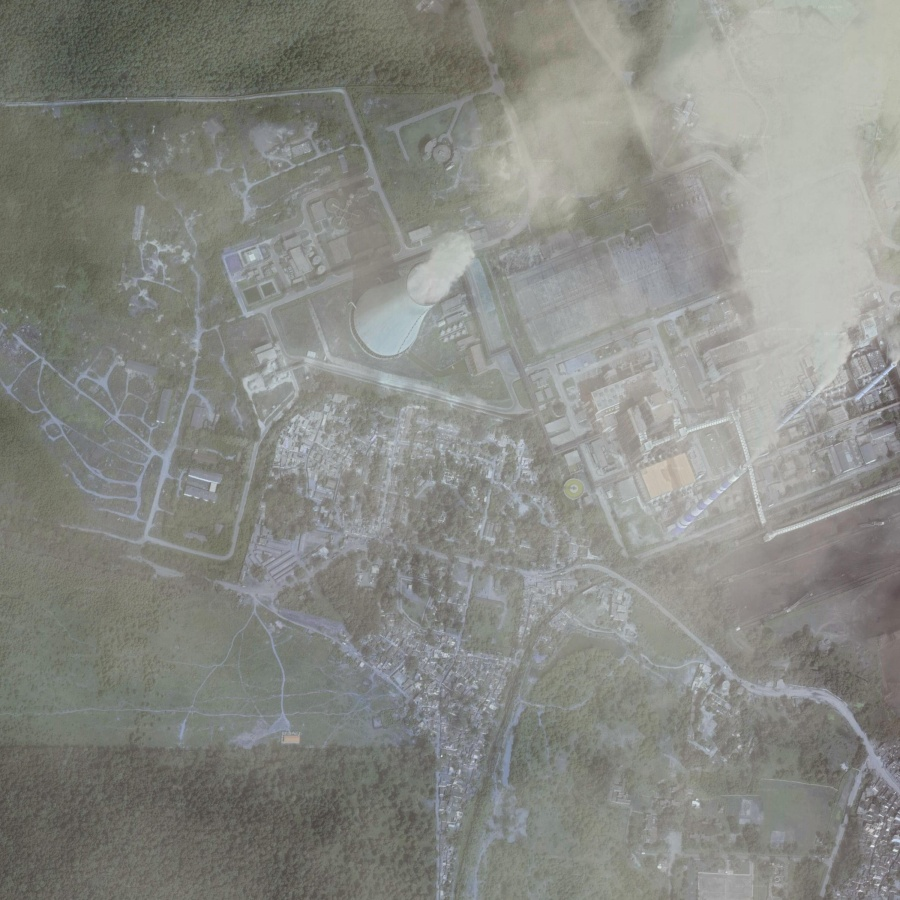PowerPlant: (343, 191, 498, 402)
